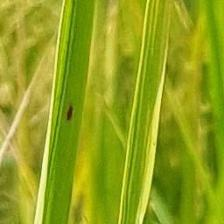0 BrownSpot: (63, 98, 75, 124)
